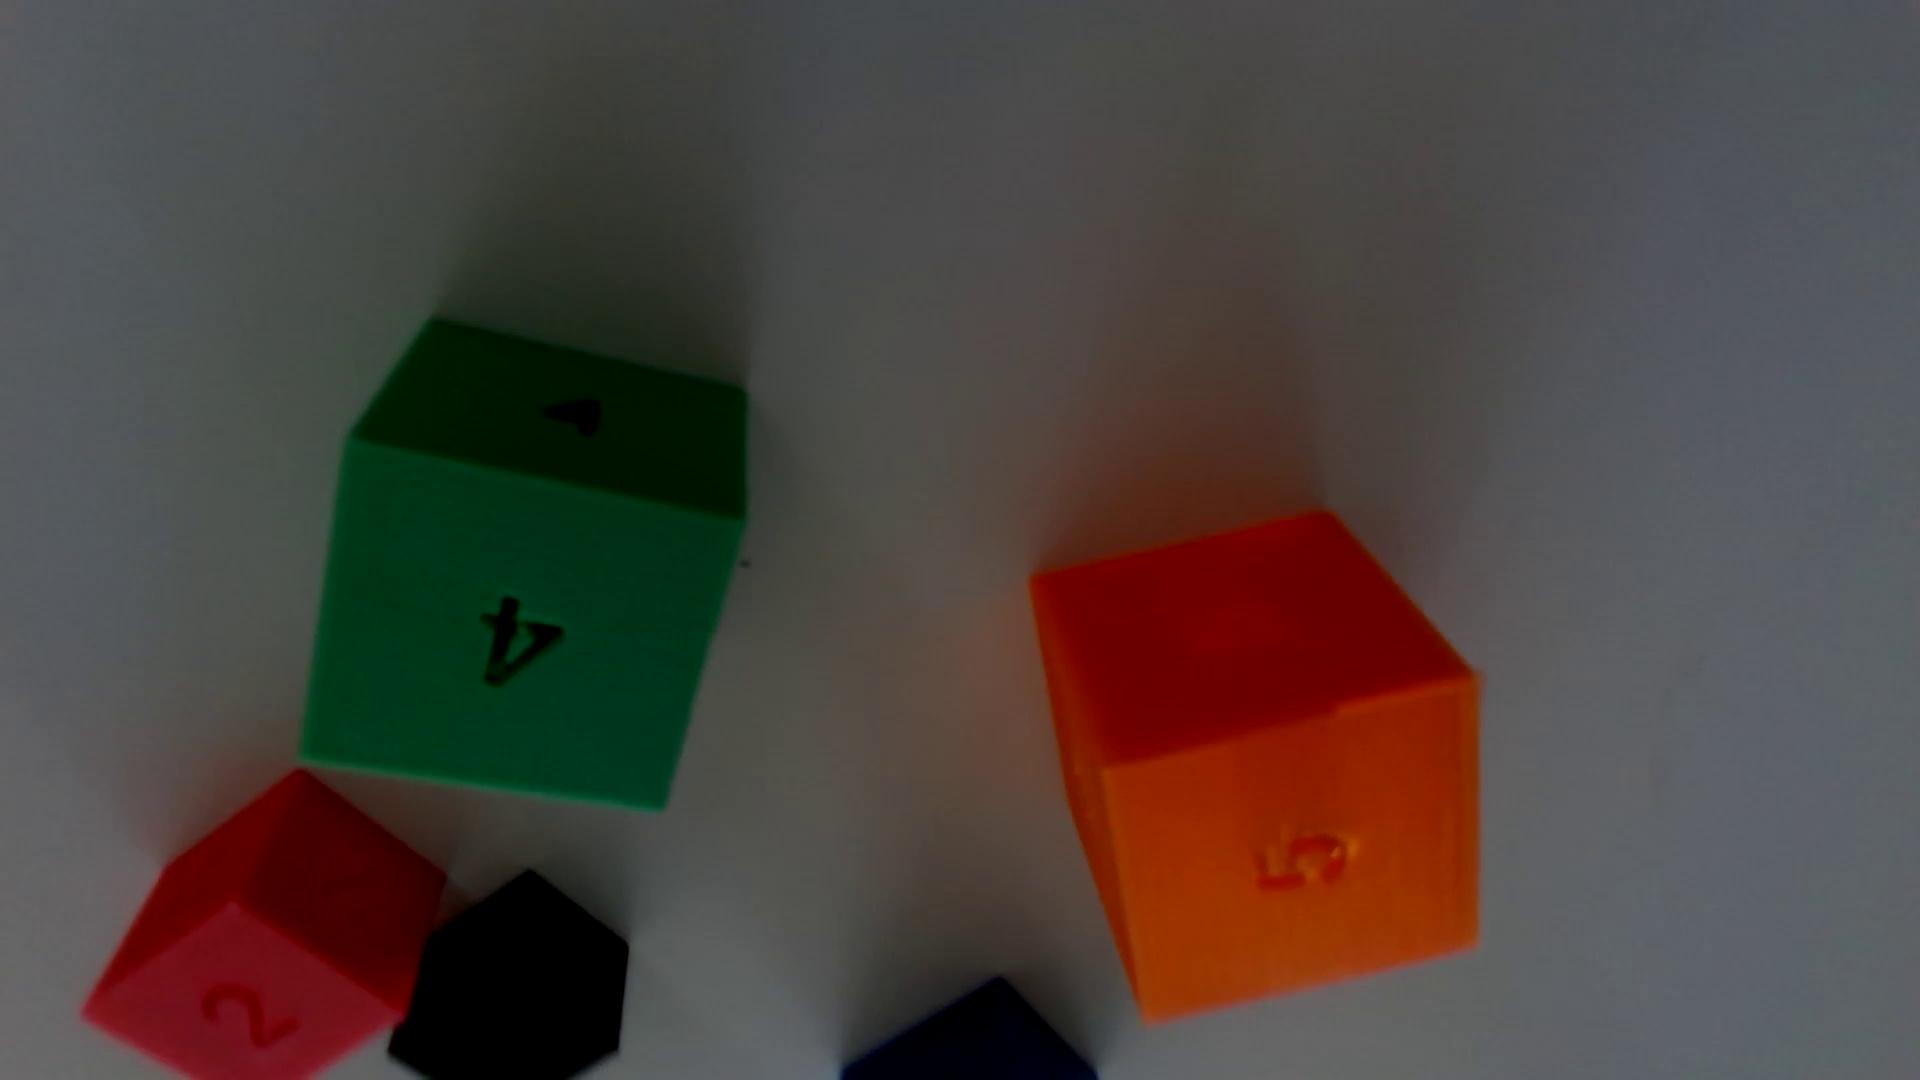black: (389, 872, 629, 1080)
blue: (841, 978, 1098, 1080)
green: (301, 320, 746, 808)
orange: (1030, 512, 1480, 1021)
red: (84, 770, 444, 1080)
